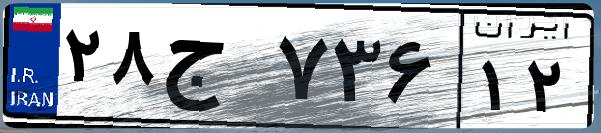1: (475, 38, 525, 113)
2: (57, 26, 110, 100), (525, 38, 570, 115)
3: (330, 28, 385, 110)
6: (385, 28, 445, 110)
7: (270, 28, 330, 110)
8: (110, 28, 158, 98)
ج: (158, 20, 270, 120)
